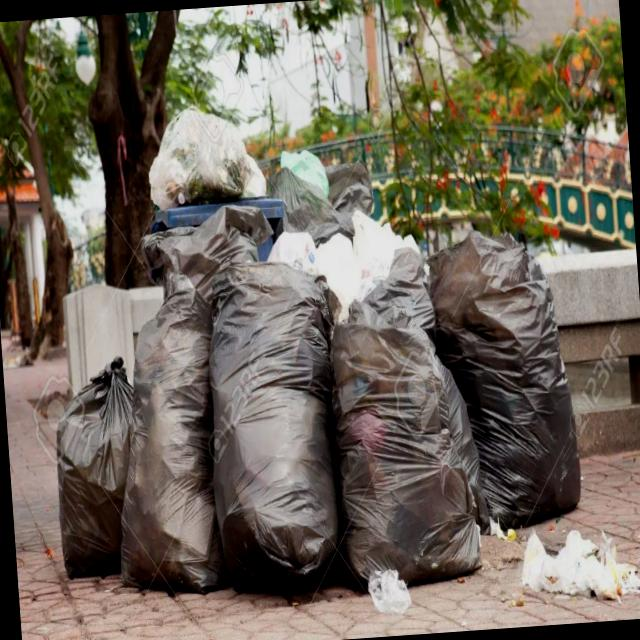garbage: (26, 74, 592, 614)
